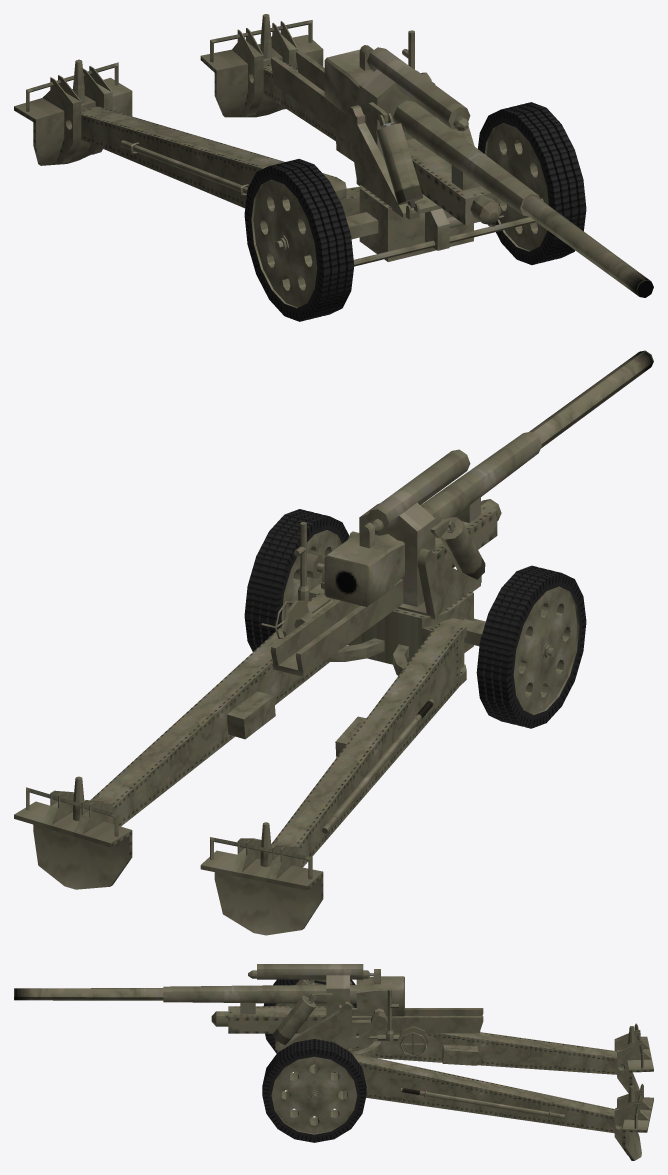
The model's file is GER10sK18.dae.
3 views of the same model, one above another, from view 1: azimuth 30°, elevation 25°; view 2: azimuth 150°, elevation 25°; view 3: azimuth 270°, elevation 25° (orthographic). The views are drawn at different scales.
Visible parts, largest first — view 1: wheels, sleeve, barrel, trail2, spade2, spade1, carriage, turret, cylinder1, trail1; view 2: wheels, trail2, trail1, sleeve, barrel, spade2, spade1, turret, carriage, cylinder1; view 3: wheels, trail1, sleeve, trail2, barrel, turret, spade1, spade2, cylinder1.
Part boxes in pixels (left/top/right/bottom): wheels: left=244, top=102, right=586, bottom=321; sleeve: left=271, top=47, right=501, bottom=225; barrel: left=324, top=45, right=653, bottom=297; trail2: left=81, top=106, right=346, bottom=208; spade2: left=14, top=59, right=132, bottom=165; spade1: left=200, top=14, right=323, bottom=117; carriage: left=339, top=185, right=535, bottom=266; turret: left=347, top=30, right=441, bottom=219; cylinder1: left=376, top=120, right=474, bottom=208; trail1: left=263, top=62, right=353, bottom=161; wheels: left=244, top=509, right=586, bottom=728; trail2: left=260, top=618, right=466, bottom=867; trail1: left=90, top=591, right=384, bottom=826; sleeve: left=271, top=449, right=501, bottom=676; barrel: left=324, top=350, right=653, bottom=606; spade2: left=200, top=822, right=323, bottom=935; spade1: left=14, top=776, right=132, bottom=889; turret: left=261, top=522, right=481, bottom=638; carriage: left=308, top=583, right=485, bottom=668; cylinder1: left=440, top=517, right=485, bottom=579; wheels: left=262, top=979, right=366, bottom=1142; trail1: left=342, top=1053, right=622, bottom=1133; sleeve: left=211, top=964, right=483, bottom=1033; trail2: left=348, top=1032, right=624, bottom=1074; barrel: left=14, top=969, right=404, bottom=1016; turret: left=275, top=981, right=428, bottom=1056; spade1: left=614, top=1084, right=653, bottom=1160; spade2: left=614, top=1023, right=653, bottom=1093; cylinder1: left=272, top=979, right=316, bottom=1044.
Bounding box in the file's own units: 24.75 × 71.61 × 19.85.
